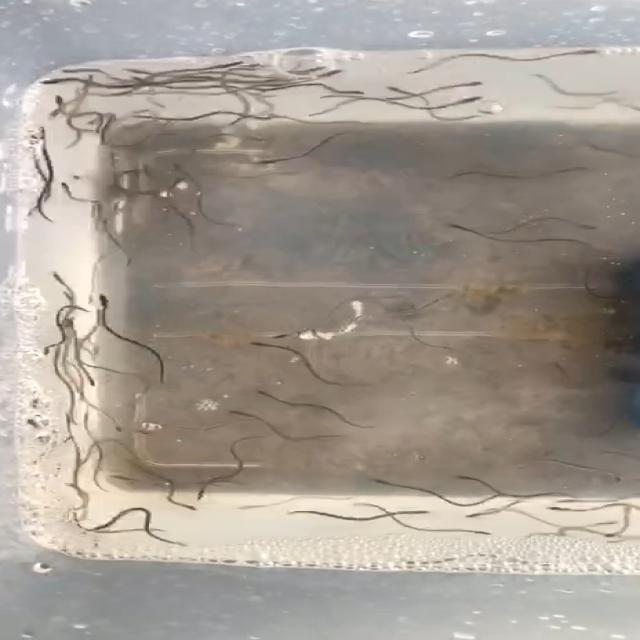inactive_glass_eel: (242, 379, 280, 402), (442, 468, 486, 486), (439, 167, 480, 185), (568, 216, 610, 233), (560, 46, 610, 60), (47, 266, 76, 288), (34, 75, 76, 90), (604, 466, 631, 489), (245, 131, 283, 147), (468, 527, 501, 545), (365, 474, 404, 489), (247, 151, 286, 166), (90, 291, 119, 311), (266, 331, 304, 345), (36, 341, 61, 362), (226, 402, 255, 420), (406, 508, 440, 523), (82, 377, 115, 392), (391, 557, 435, 568), (233, 338, 273, 350), (428, 220, 468, 232), (594, 528, 628, 542), (296, 63, 338, 74), (542, 505, 580, 517), (452, 95, 497, 105), (100, 420, 132, 434), (42, 106, 74, 120), (552, 495, 592, 506), (18, 128, 40, 148), (232, 502, 265, 515), (338, 86, 371, 99), (458, 79, 491, 91), (36, 123, 58, 141), (190, 472, 218, 486), (48, 92, 76, 106), (173, 500, 203, 513), (191, 487, 212, 505), (460, 510, 491, 522), (56, 67, 93, 77), (162, 175, 195, 186), (316, 70, 352, 80), (134, 114, 179, 122), (52, 178, 81, 190), (209, 59, 250, 67), (66, 479, 86, 495), (100, 216, 120, 232), (123, 164, 152, 175), (228, 61, 266, 69), (81, 522, 102, 536), (378, 82, 402, 94), (85, 115, 111, 126), (166, 160, 194, 170), (172, 536, 189, 552), (593, 519, 623, 528), (106, 150, 133, 160), (118, 64, 145, 74), (110, 78, 152, 84), (232, 65, 259, 74)
